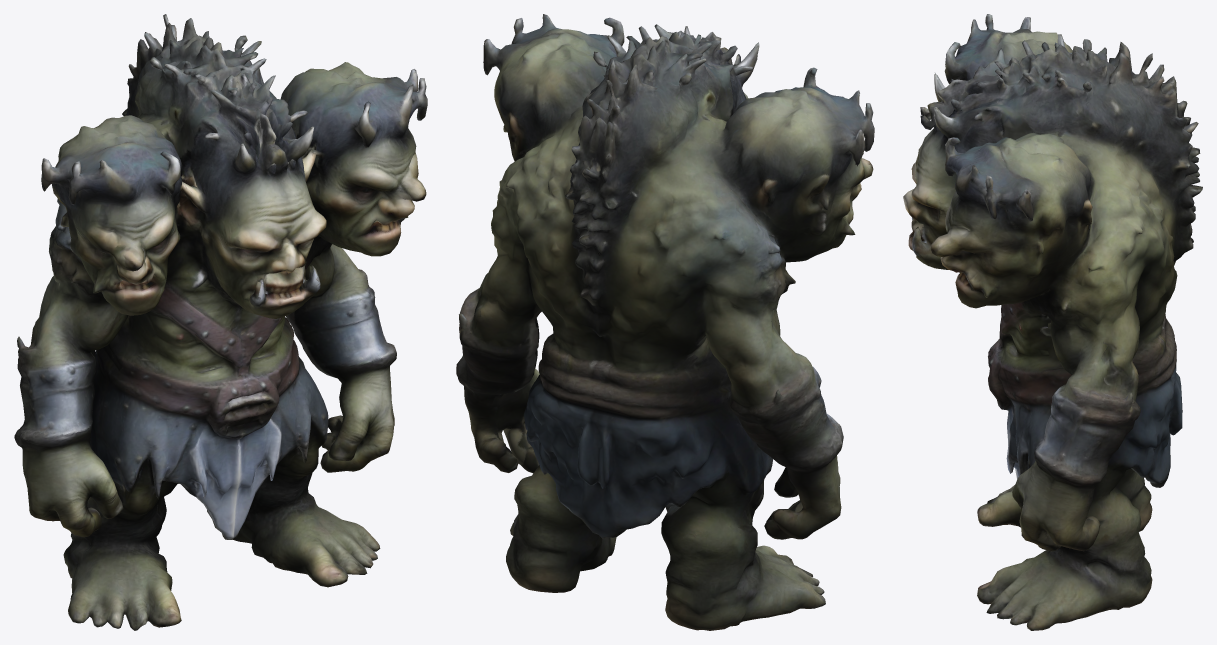
File: medieval_three_headed_0928184913_refine.glb
3 renders of one model, left to right at view 1: azimuth 30°, elevation 25°; view 2: azimuth 150°, elevation 25°; view 3: azimuth 270°, elevation 25°, orthographic. The views are drawn at different scales.
Size of the model in its own units: 1.46 by 1.99 by 1.05.
Materials: 1 (1 with a texture image).
